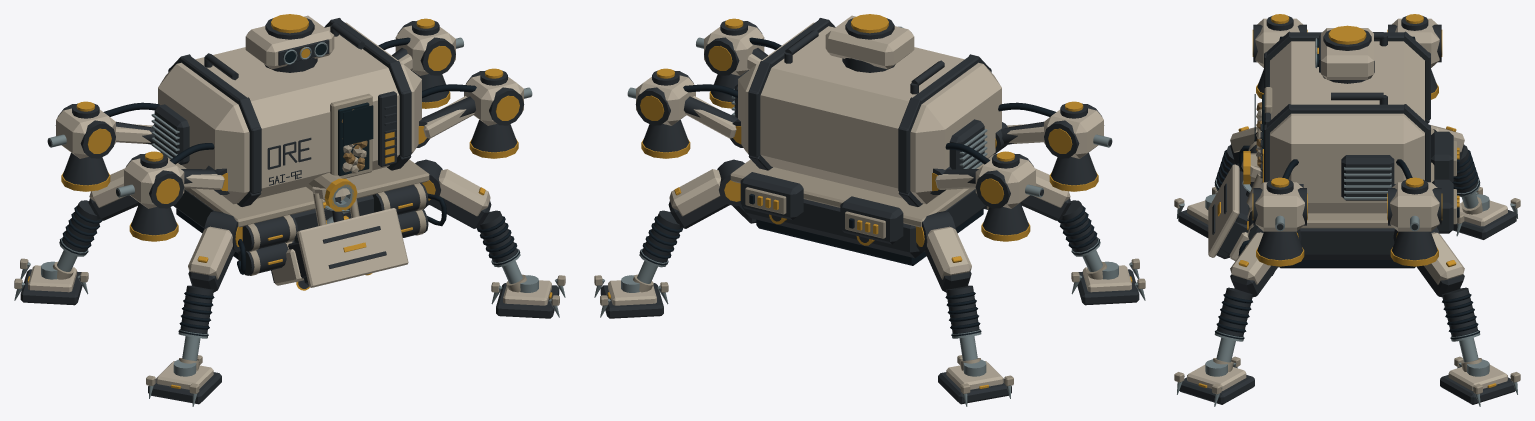
The model's file is sai92_unit_d0_lod1.glb.
3 renders of one model, left to right at view 1: azimuth 30°, elevation 25°; view 2: azimuth 150°, elevation 25°; view 3: azimuth 270°, elevation 25°, orthographic.
Visible parts, largest first — view 1: BODY_ORE_TANK_SURFACE, MINING_FRAME, THRUSTER_FL_SURFACE, THRUSTER_RL_SURFACE, THRUSTER_FR_SURFACE, SENSOR_SURFACE, THRUSTER_RR_SURFACE, LEG_FL_UPPER, LEG_FR_UPPER, LEG_FL_FOOT_SURFACE, LEG_FR_FOOT_SURFACE, LEG_RL_FOOT_SURFACE (+11 smaller); view 2: BODY_ORE_TANK_SURFACE, THRUSTER_RL_SURFACE, THRUSTER_FL_SURFACE, THRUSTER_RR_SURFACE, SENSOR_SURFACE, THRUSTER_FR_SURFACE, LEG_RR_UPPER, LEG_RL_UPPER, LEG_RL_FOOT_SURFACE, LEG_RR_FOOT_SURFACE, LEG_FL_FOOT_SURFACE, THRUSTER_RR_BOOM (+6 smaller); view 3: BODY_ORE_TANK_SURFACE, THRUSTER_FR_SURFACE, THRUSTER_RR_SURFACE, SENSOR_SURFACE, MINING_FRAME, LEG_FR_FOOT_SURFACE, LEG_RR_FOOT_SURFACE, LEG_FR_UPPER, LEG_RR_UPPER, THRUSTER_RL_SURFACE, THRUSTER_FL_SURFACE, LEG_RL_FOOT_SURFACE (+14 smaller).
Boxes of the visible parts, x1=… form: BODY_ORE_TANK_SURFACE: x1=151, y1=18, x2=446, y2=275; MINING_FRAME: x1=271, y1=208, x2=408, y2=287; THRUSTER_FL_SURFACE: x1=116, y1=151, x2=184, y2=241; THRUSTER_RL_SURFACE: x1=47, y1=101, x2=115, y2=191; THRUSTER_FR_SURFACE: x1=464, y1=68, x2=532, y2=158; SENSOR_SURFACE: x1=245, y1=14, x2=334, y2=72; THRUSTER_RR_SURFACE: x1=395, y1=18, x2=463, y2=108; LEG_FL_UPPER: x1=188, y1=211, x2=242, y2=292; LEG_FR_UPPER: x1=415, y1=159, x2=491, y2=228; LEG_FL_FOOT_SURFACE: x1=148, y1=359, x2=221, y2=404; LEG_FR_FOOT_SURFACE: x1=496, y1=275, x2=559, y2=318; LEG_RL_FOOT_SURFACE: x1=20, y1=261, x2=82, y2=305; BODY_ORE_TANK_SURFACE: x1=730, y1=18, x2=1001, y2=265; THRUSTER_RL_SURFACE: x1=975, y1=151, x2=1043, y2=241; THRUSTER_FL_SURFACE: x1=1044, y1=101, x2=1112, y2=191; THRUSTER_RR_SURFACE: x1=627, y1=68, x2=695, y2=158; SENSOR_SURFACE: x1=825, y1=14, x2=914, y2=72; THRUSTER_FR_SURFACE: x1=696, y1=18, x2=764, y2=108; LEG_RR_UPPER: x1=668, y1=159, x2=744, y2=228; LEG_RL_UPPER: x1=915, y1=211, x2=971, y2=292; LEG_RL_FOOT_SURFACE: x1=938, y1=359, x2=1011, y2=404; LEG_RR_FOOT_SURFACE: x1=600, y1=275, x2=663, y2=318; LEG_FL_FOOT_SURFACE: x1=1077, y1=261, x2=1139, y2=305; THRUSTER_RR_BOOM: x1=683, y1=84, x2=743, y2=147; BODY_ORE_TANK_SURFACE: x1=1238, y1=31, x2=1459, y2=268; THRUSTER_FR_SURFACE: x1=1252, y1=177, x2=1307, y2=266; THRUSTER_RR_SURFACE: x1=1387, y1=177, x2=1442, y2=266; SENSOR_SURFACE: x1=1315, y1=25, x2=1374, y2=83; MINING_FRAME: x1=1208, y1=164, x2=1274, y2=275; LEG_FR_FOOT_SURFACE: x1=1179, y1=359, x2=1254, y2=404; LEG_RR_FOOT_SURFACE: x1=1440, y1=359, x2=1515, y2=404; LEG_FR_UPPER: x1=1230, y1=227, x2=1301, y2=297; LEG_RR_UPPER: x1=1393, y1=227, x2=1464, y2=297; THRUSTER_RL_SURFACE: x1=1387, y1=14, x2=1442, y2=99; THRUSTER_FL_SURFACE: x1=1252, y1=14, x2=1307, y2=98; LEG_RL_FOOT_SURFACE: x1=1453, y1=194, x2=1516, y2=239.
Bounding box in the file's own units: 6.32 × 3.99 × 4.58.
